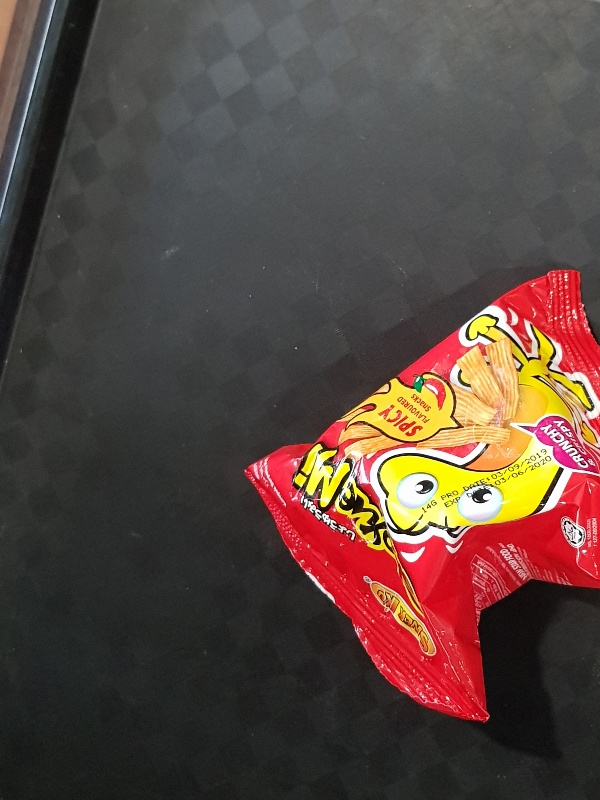ShoyueMi Spicy Flavoured Snacks: (243, 266, 600, 723)
